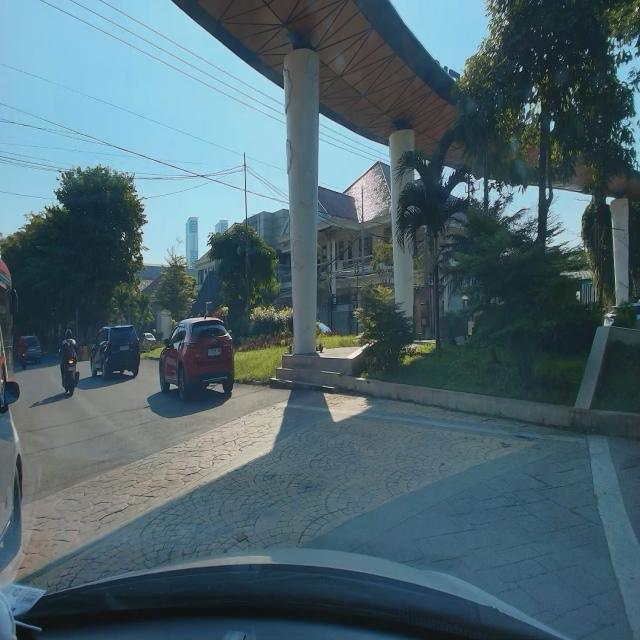car: (159, 313, 236, 398), (90, 323, 142, 380)
license-plate: (207, 348, 221, 357), (120, 345, 129, 351)
